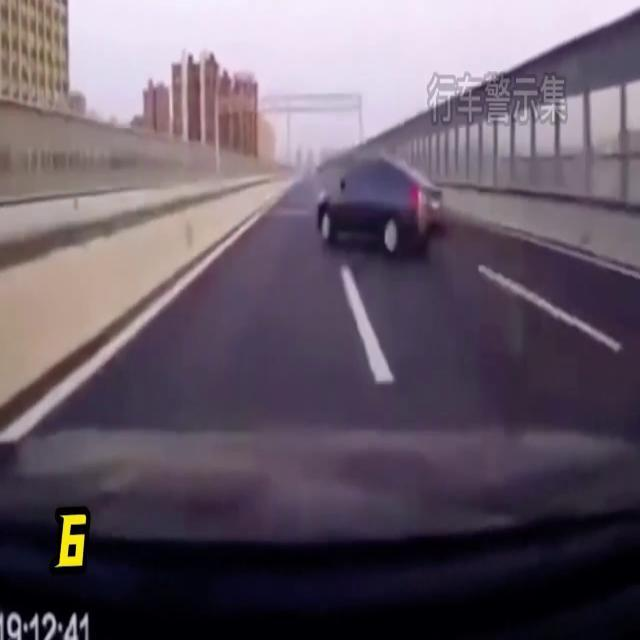single accident: (295, 153, 492, 250)
